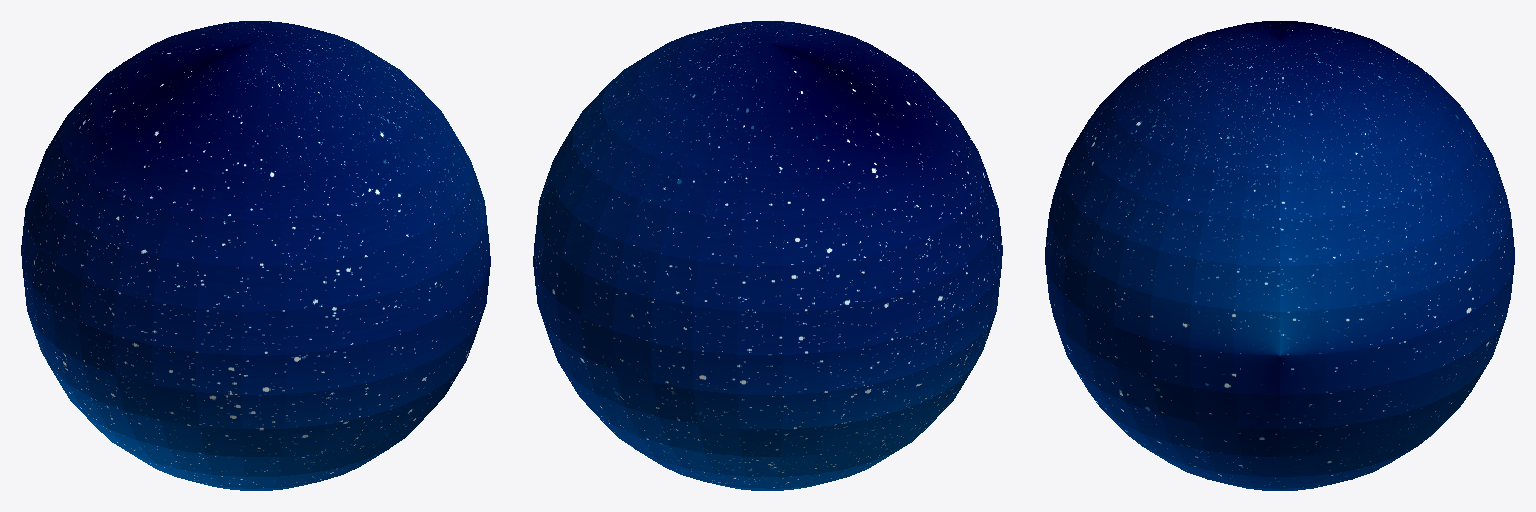
3 renders of one model, left to right at view 1: azimuth 30°, elevation 25°; view 2: azimuth 150°, elevation 25°; view 3: azimuth 270°, elevation 25°, orthographic.
Visible parts, largest first — view 1: 球; view 2: 球; view 3: 球.
Boxes of the visible parts, box(x1,y1,x2,y2) form: 球: box(21, 21, 490, 490); 球: box(533, 21, 1002, 490); 球: box(1045, 21, 1514, 490).
Size of the model in its own units: 500 by 500 by 500.
1 materials, 1 textured.